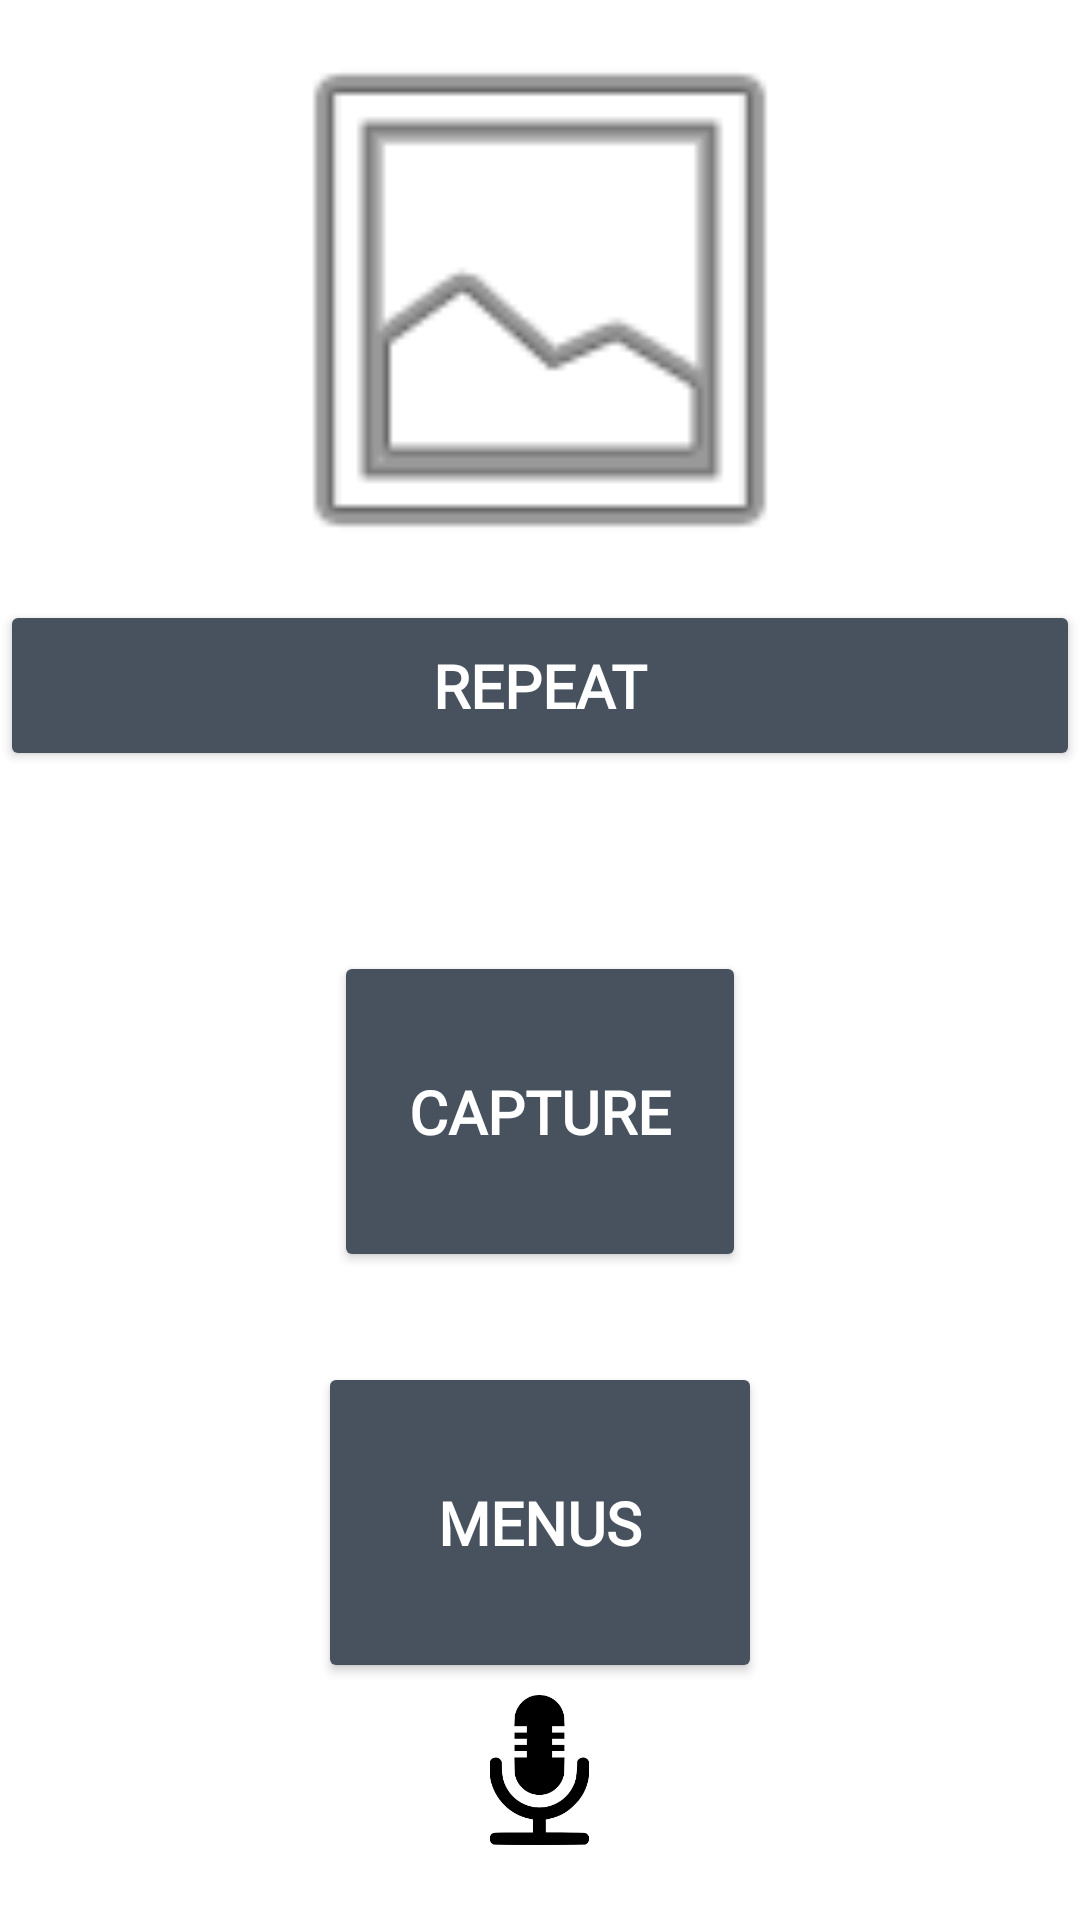

Where to tap for icons on this 1080×1920 app screen, as point (x, y):
mic: point (539, 1770)
